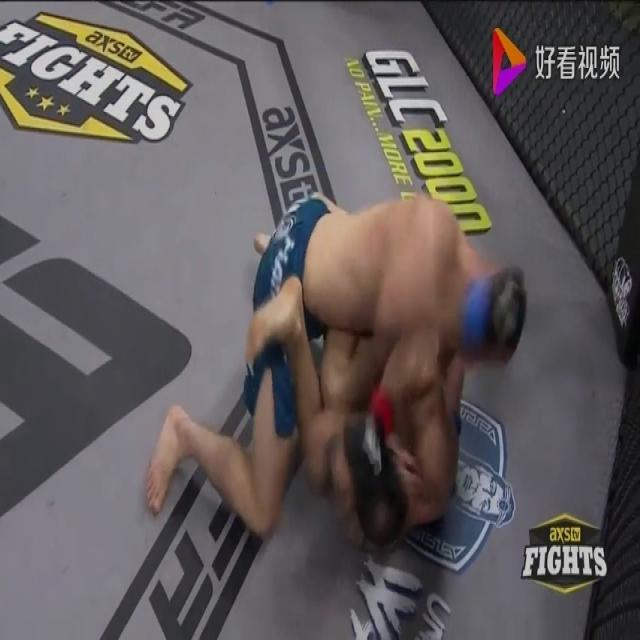fight: (136, 148, 551, 612)
